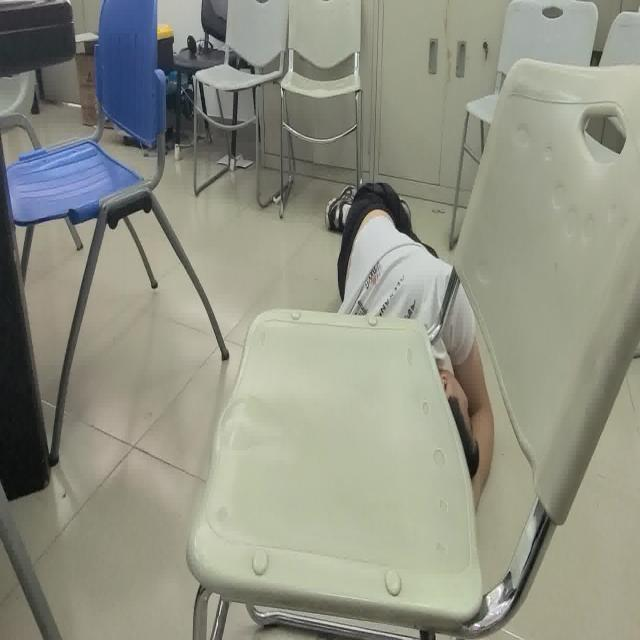Fall-Detected: (326, 177, 495, 516)
